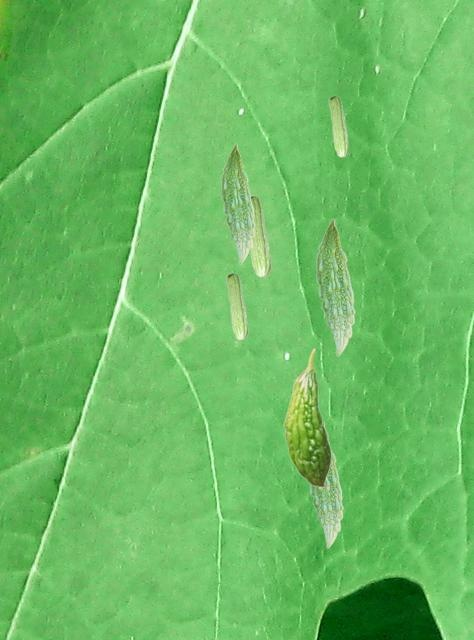ampalaya: (283, 348, 331, 490), (316, 218, 355, 356), (309, 422, 344, 549), (220, 143, 255, 265), (250, 195, 271, 277), (225, 272, 248, 340), (328, 95, 349, 157)
